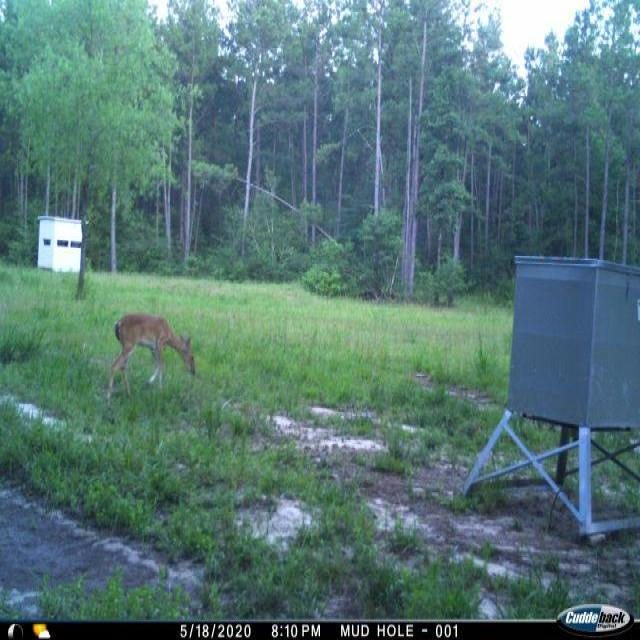deer: (106, 309, 200, 407)
